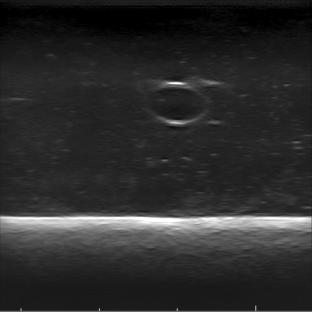vessel: (145, 80, 209, 126)
